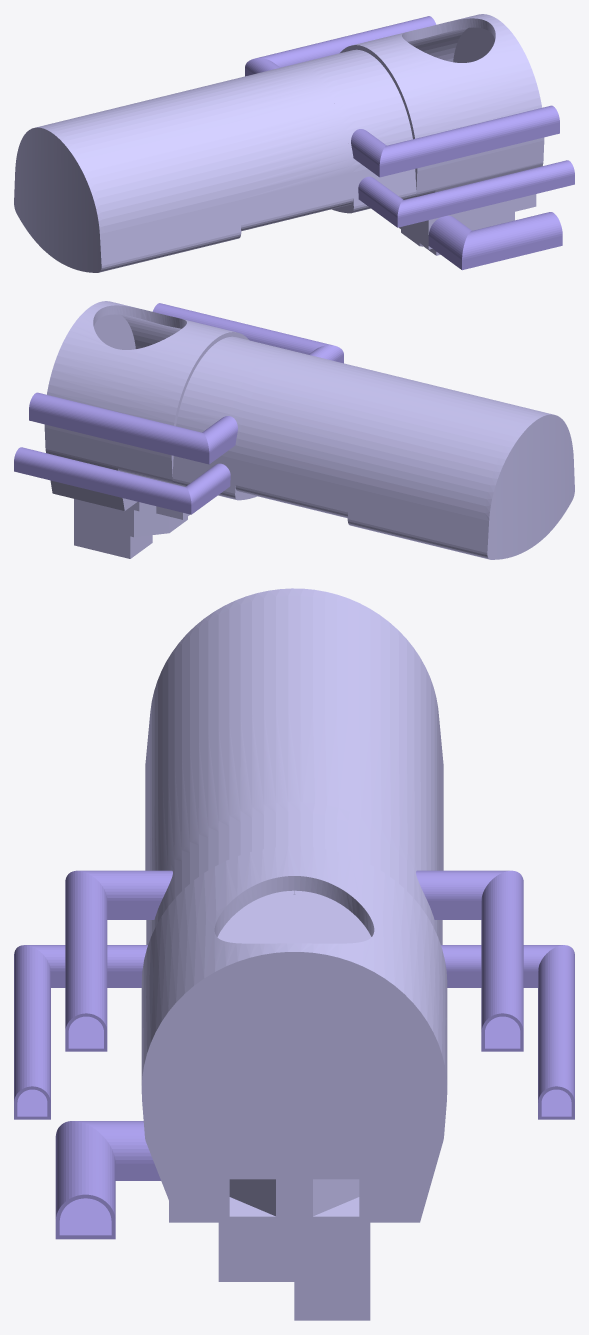
The model's file is usa15.glb.
The picture shows the model from 3 angles, top to bottom: view 1: azimuth 30°, elevation 25°; view 2: azimuth 150°, elevation 25°; view 3: azimuth 270°, elevation 25°; orthographic projection. The views are drawn at different scales.
Parts seen in each view (by area): view 1: null; view 2: null; view 3: null.
Part boxes in pixels (x1=…): null: x1=14, y1=14, x2=574, y2=272; null: x1=14, y1=301, x2=574, y2=559; null: x1=14, y1=588, x2=574, y2=1320.
Bounding box in the file's own units: 64.27 × 30.28 × 41.1.
